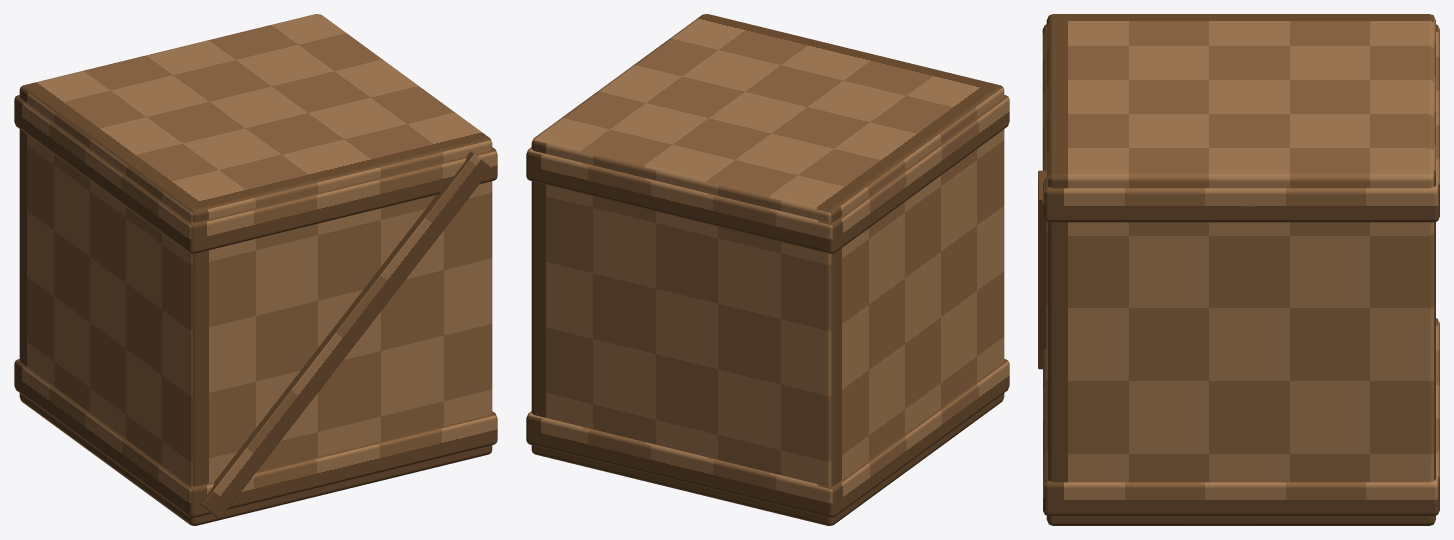
Rendered from crate.glb.
3 renders of one model, left to right at view 1: azimuth 30°, elevation 25°; view 2: azimuth 150°, elevation 25°; view 3: azimuth 270°, elevation 25°, orthographic. The views are drawn at different scales.
Parts seen in each view (by area): view 1: dyn_wood_variant; view 2: dyn_wood_variant; view 3: dyn_wood_variant.
Part boxes in pixels (x1,y1,x2,y2): dyn_wood_variant: (14, 14, 497, 525); dyn_wood_variant: (526, 14, 1009, 525); dyn_wood_variant: (1038, 14, 1439, 525).
Size of the model in its own units: 0.6125 by 0.6002 by 0.6197.
1 material, 1 textured.
